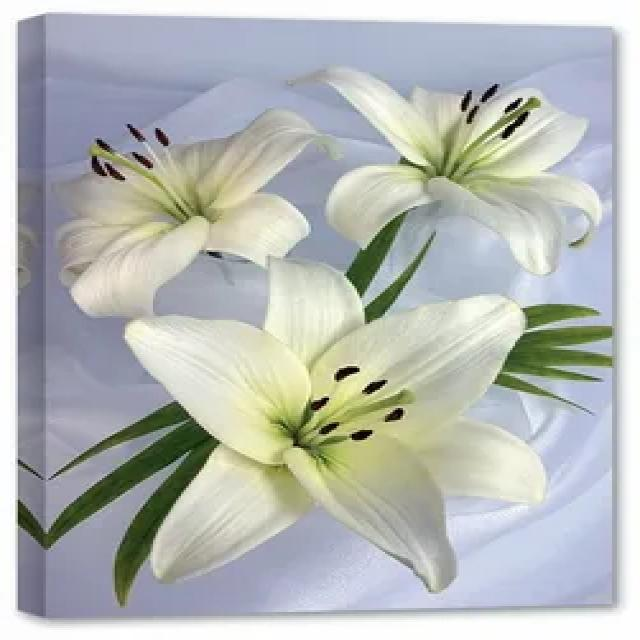lily: (122, 244, 552, 592)
